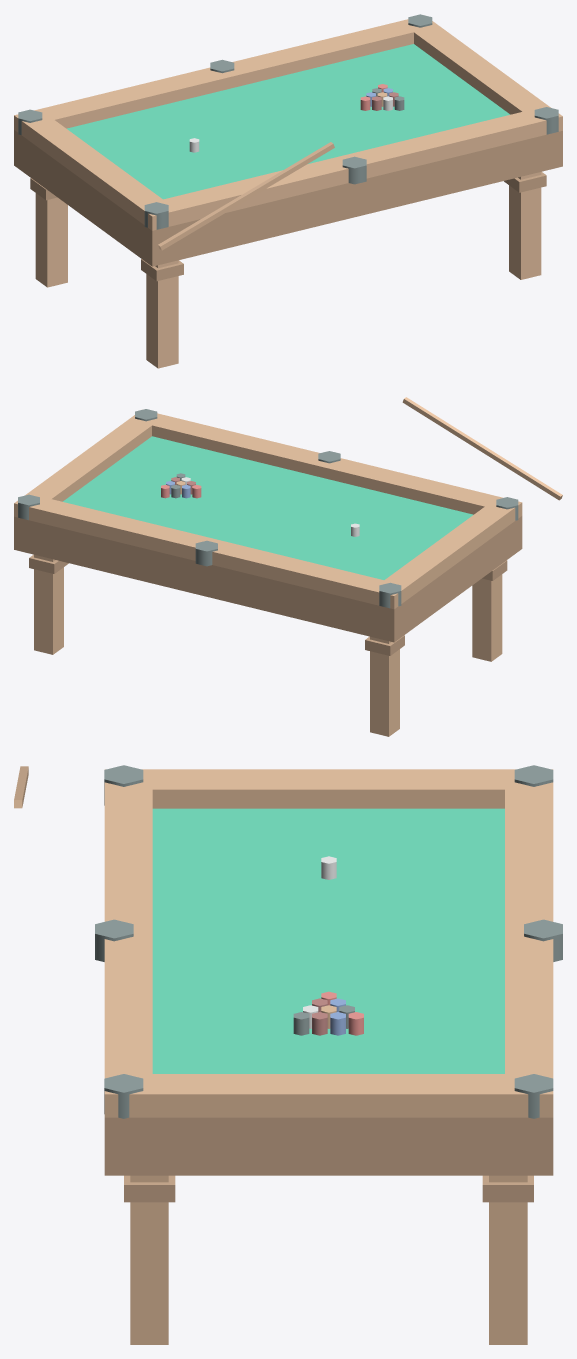
File: poolTable.glb
The picture shows the model from 3 angles, top to bottom: view 1: azimuth 30°, elevation 25°; view 2: azimuth 150°, elevation 25°; view 3: azimuth 270°, elevation 25°; orthographic projection. The views are drawn at different scales.
Parts seen in each view (by area): view 1: poolTable; view 2: poolTable; view 3: poolTable.
Boxes of the visible parts, <box> form: poolTable: <box>14,14,562,368</box>; poolTable: <box>14,397,562,736</box>; poolTable: <box>14,765,562,1344</box>.
Bounding box in the file's own units: 1.26 × 0.6061 × 0.8569.
